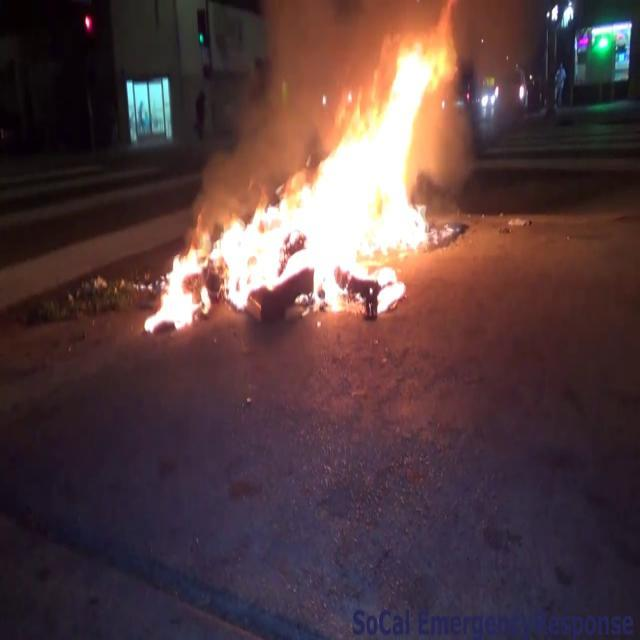Fire: (145, 24, 450, 318)
